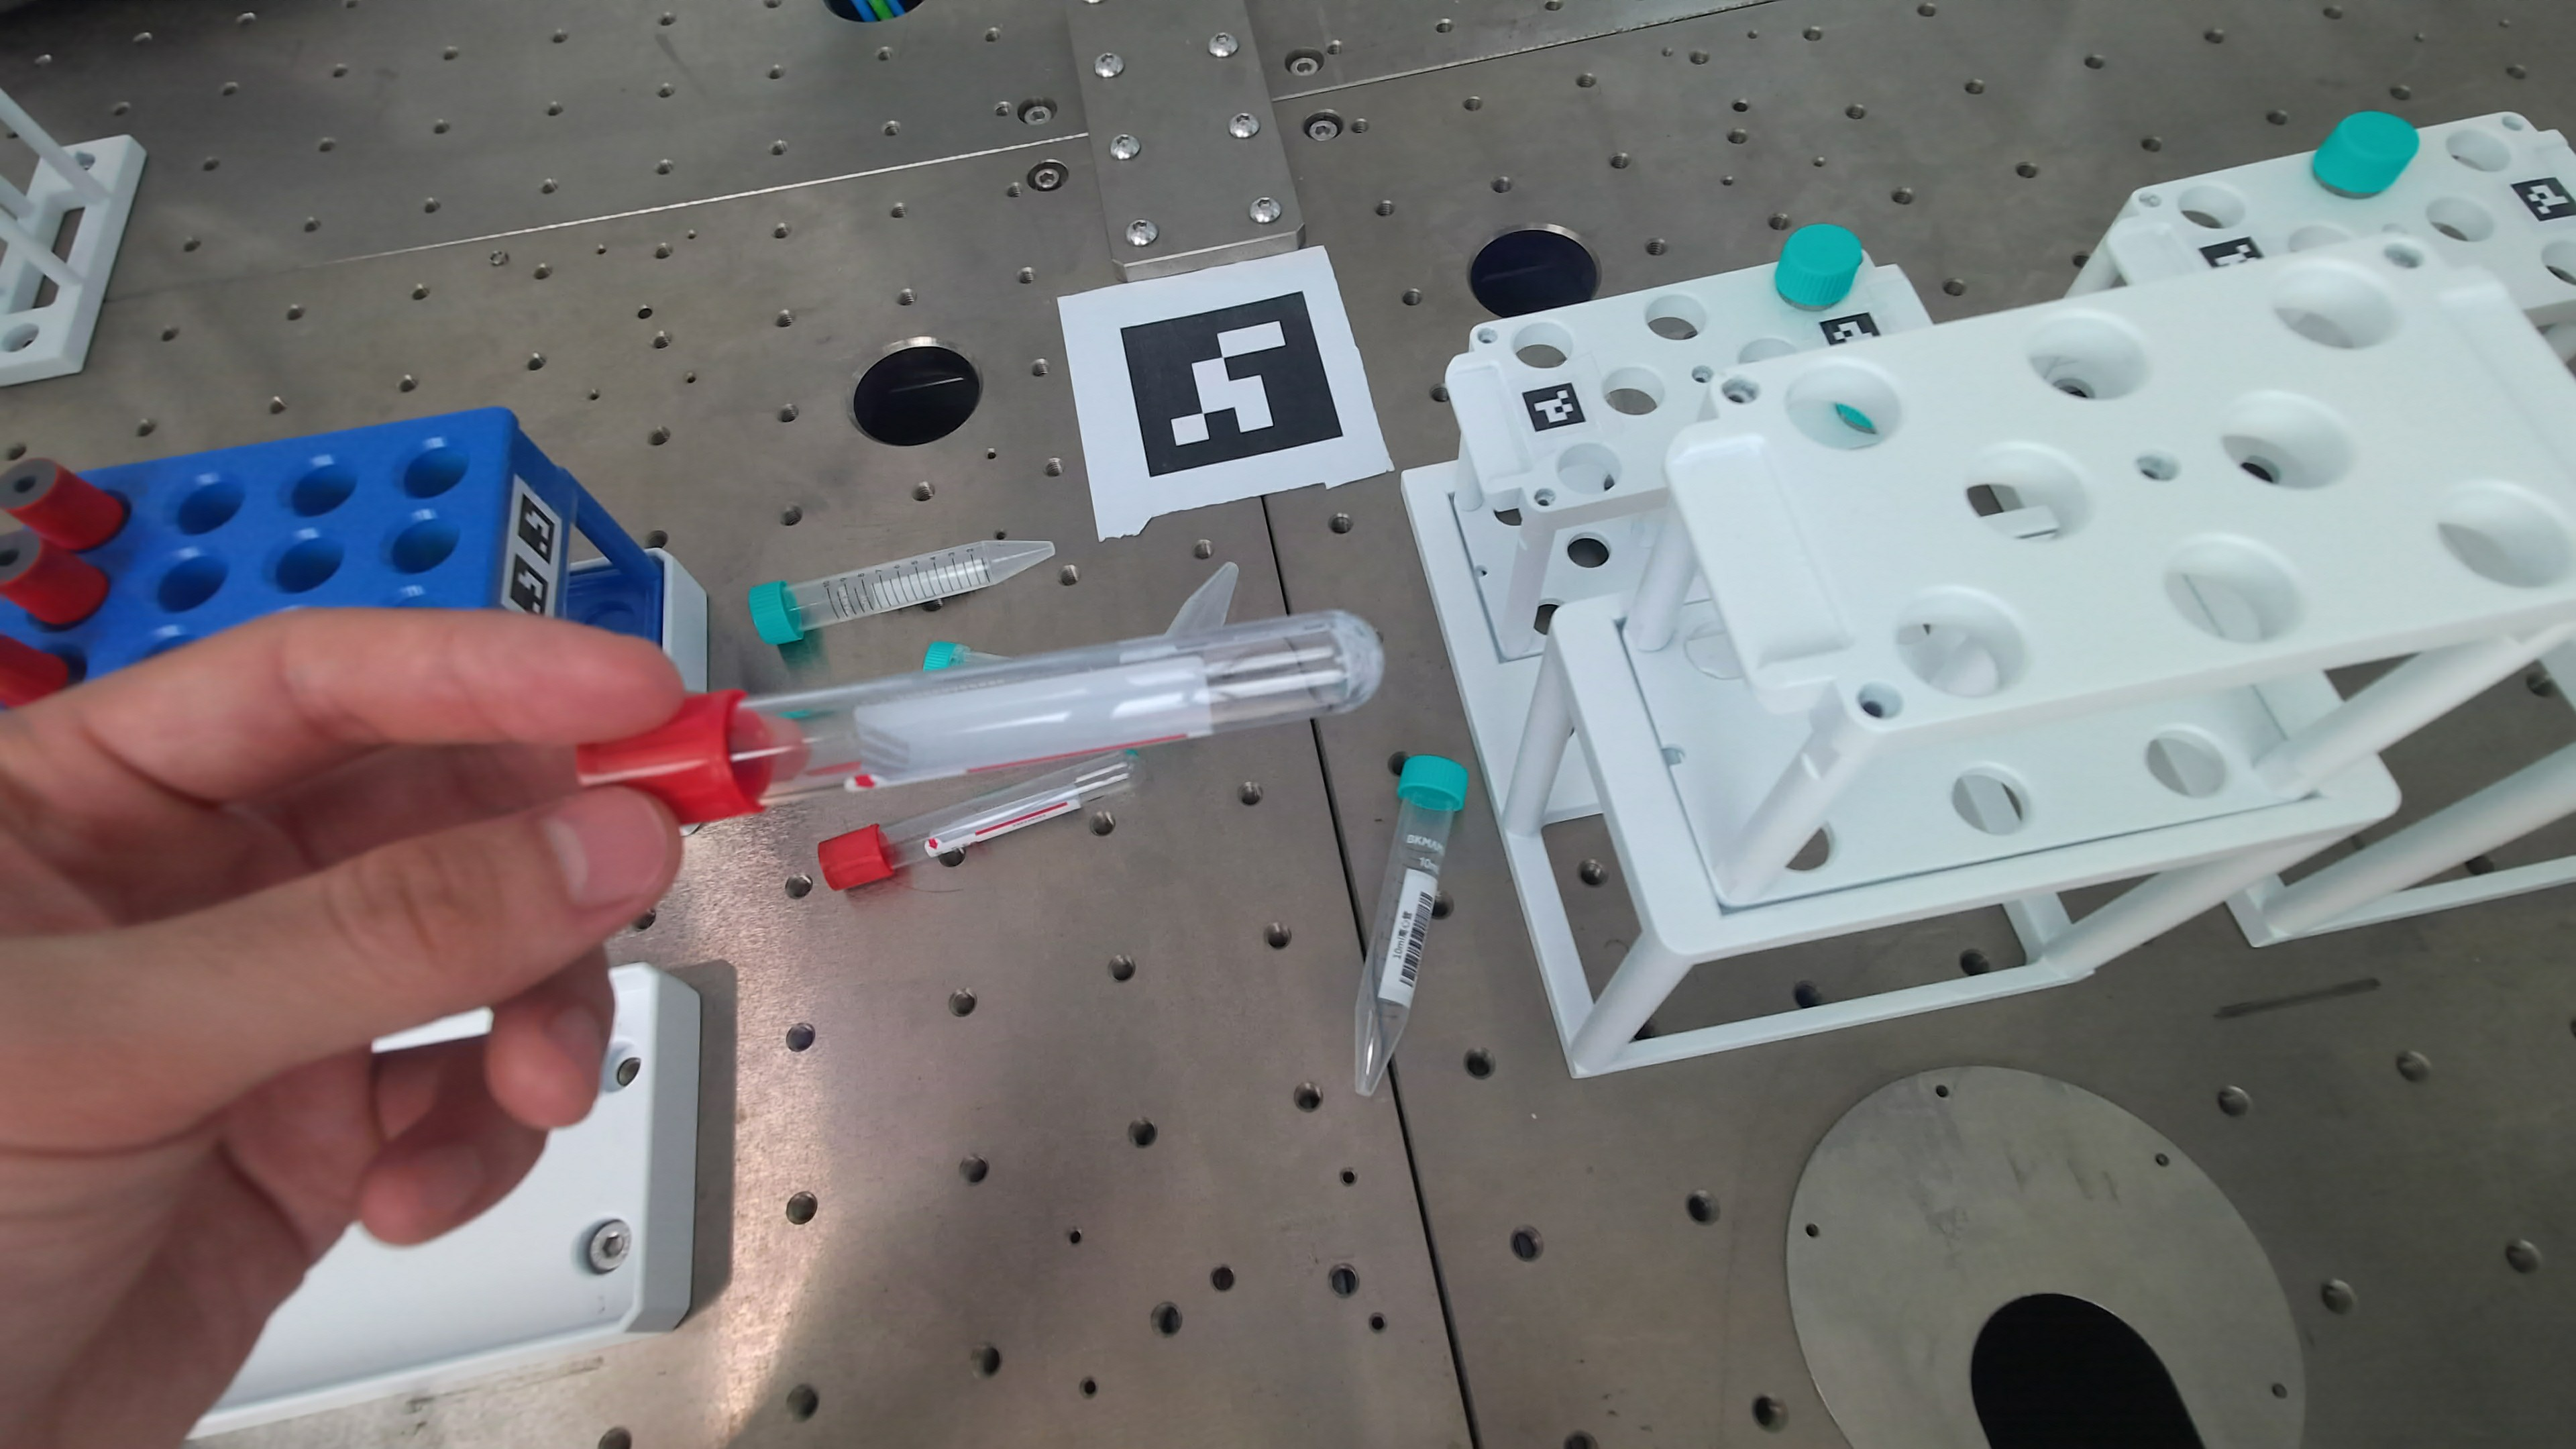10ML_centrifuge_tube: (1355, 755, 1468, 1095), (750, 541, 1054, 644), (2312, 111, 2419, 196), (1775, 225, 1863, 308), (1166, 561, 1238, 637), (922, 640, 1005, 672)
10ML_sorting_tube_rack: (0, 409, 669, 681)
blood_tube: (579, 614, 1382, 823), (817, 750, 1139, 890)
dispensing_tube_rack: (1407, 113, 2576, 1207)
sorting_tube_rack_base: (198, 964, 701, 1433), (568, 550, 708, 694)
